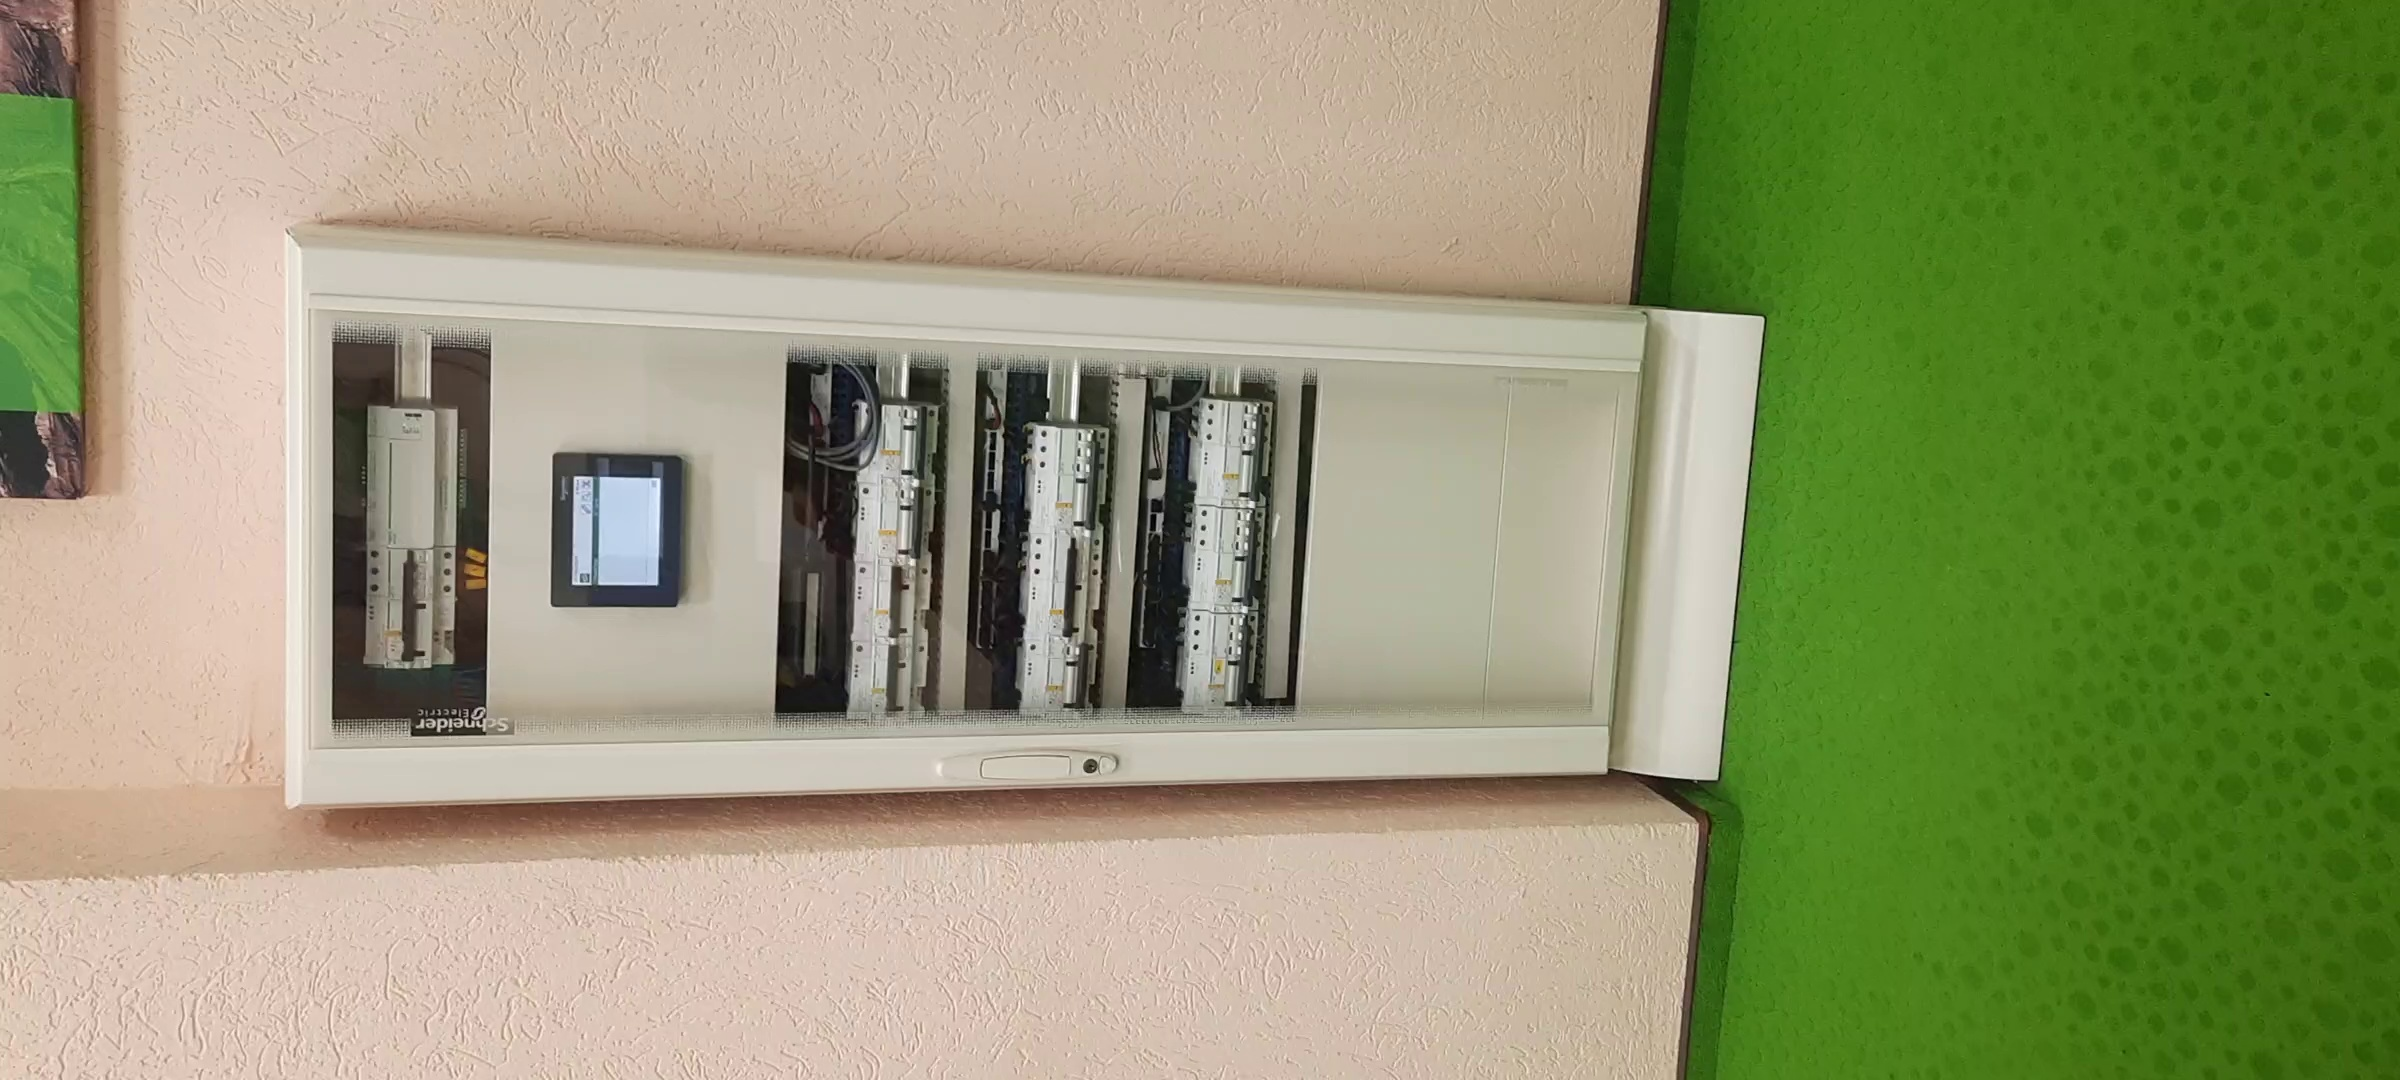smart_stand: (282, 239, 1742, 802)
